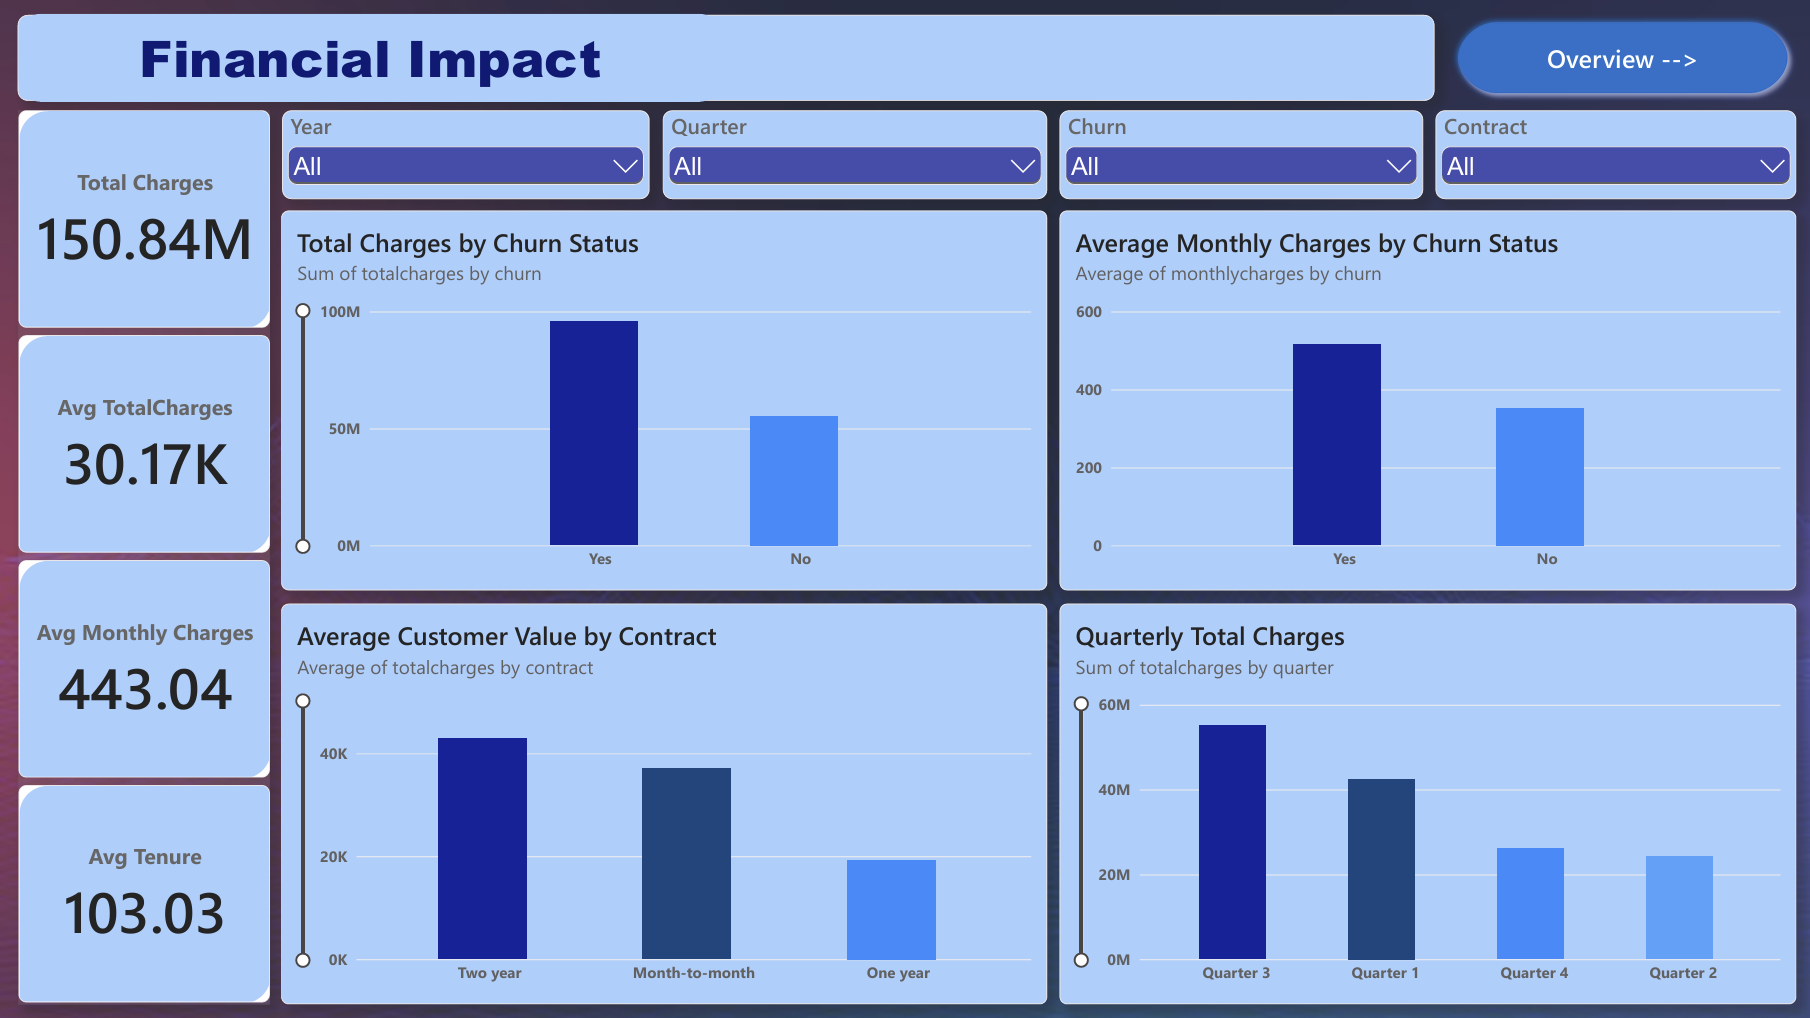

The page's visual inventory and layout, read from the dashboard file:
{"tool":"powerbi","page":{"name":"Finance","canvas":[1920,1080],"ordinal":2},"visuals":[{"type":"shape","box":[18.8,14.6,1500.5,91.8],"z":0},{"type":"shape","box":[19.9,14.5,743.8,92.3],"z":1000},{"type":"cardVisual","fields":{"Data":["Ashok_Churn_analysis.Total Charges","Ashok_Churn_analysis.Avg TotalCharges","Ashok_Churn_analysis.Avg Monthly Charges","Ashok_Churn_analysis.Avg Tenure"]},"box":[19.9,115.8,266,946.5],"z":2000},{"type":"slicer","fields":{"Values":["Ashok_Churn_analysis.year"]},"box":[298.6,115.8,389.1,94.1],"z":3000},{"type":"slicer","fields":{"Values":["Ashok_Churn_analysis.quarter"]},"box":[702.1,115.8,407.2,94.1],"z":4000},{"type":"slicer","fields":{"Values":["Ashok_Churn_analysis.churn"]},"box":[1122,115.8,385.5,94.1],"z":5000},{"type":"slicer","fields":{"Values":["Ashok_Churn_analysis.contract"]},"box":[1520.1,115.8,381.8,94.1],"z":6000},{"type":"clusteredColumnChart","title":"Total Charges by Churn Status","fields":{"Category":["Ashok_Churn_analysis.churn"],"Y":["Sum(Ashok_Churn_analysis.totalcharges)"]},"box":[298.5,222.3,811,401.4],"z":7000},{"type":"clusteredColumnChart","title":"Average Monthly Charges by Churn Status","fields":{"Category":["Ashok_Churn_analysis.churn"],"Y":["Avg(Ashok_Churn_analysis.monthlycharges)"]},"box":[1121.8,222.3,780.1,401.4],"z":8000},{"type":"clusteredColumnChart","title":"Average Customer Value by Contract","fields":{"Category":["Ashok_Churn_analysis.contract"],"Y":["Avg(Ashok_Churn_analysis.totalcharges)"]},"box":[298.5,638.1,811,424],"z":9000},{"type":"clusteredColumnChart","title":"Quarterly Total Charges","fields":{"Category":["Ashok_Churn_analysis.quarter"],"Y":["Sum(Ashok_Churn_analysis.totalcharges)"]},"box":[1121.8,638.1,780.1,424],"z":10000},{"type":"actionButton","box":[1535.1,14.1,367.1,92.8],"z":10001}]}

Visuals, with their boxes in screenshot pixels (x1, y1, x2, y2), scaled from the page's 1920x1080 canvas onto the 1810x1018 screenshot:
shape: region(18, 14, 1432, 100)
shape: region(19, 14, 720, 101)
cardVisual - Ashok_Churn_analysis.Total Charges x Ashok_Churn_analysis.Avg TotalCharges: region(19, 109, 270, 1001)
slicer - Ashok_Churn_analysis.year: region(281, 109, 648, 198)
slicer - Ashok_Churn_analysis.quarter: region(662, 109, 1046, 198)
slicer - Ashok_Churn_analysis.churn: region(1058, 109, 1421, 198)
slicer - Ashok_Churn_analysis.contract: region(1433, 109, 1793, 198)
"Total Charges by Churn Status" clusteredColumnChart: region(281, 210, 1046, 588)
"Average Monthly Charges by Churn Status" clusteredColumnChart: region(1058, 210, 1793, 588)
"Average Customer Value by Contract" clusteredColumnChart: region(281, 601, 1046, 1001)
"Quarterly Total Charges" clusteredColumnChart: region(1058, 601, 1793, 1001)
actionButton: region(1447, 13, 1793, 101)
